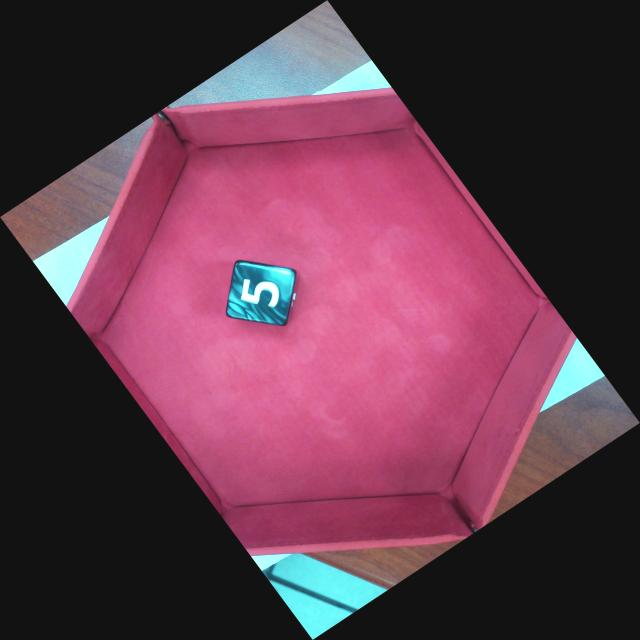dice: (224, 258, 298, 328)
